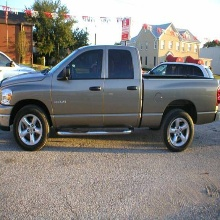no damage: (1, 45, 220, 153), (145, 62, 215, 81), (1, 52, 37, 81)
